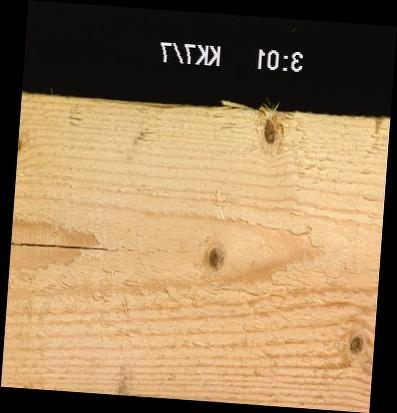dry_knot: (263, 118, 277, 144)
sound_knot: (206, 243, 226, 272), (348, 334, 365, 354)
split: (10, 242, 109, 250)
